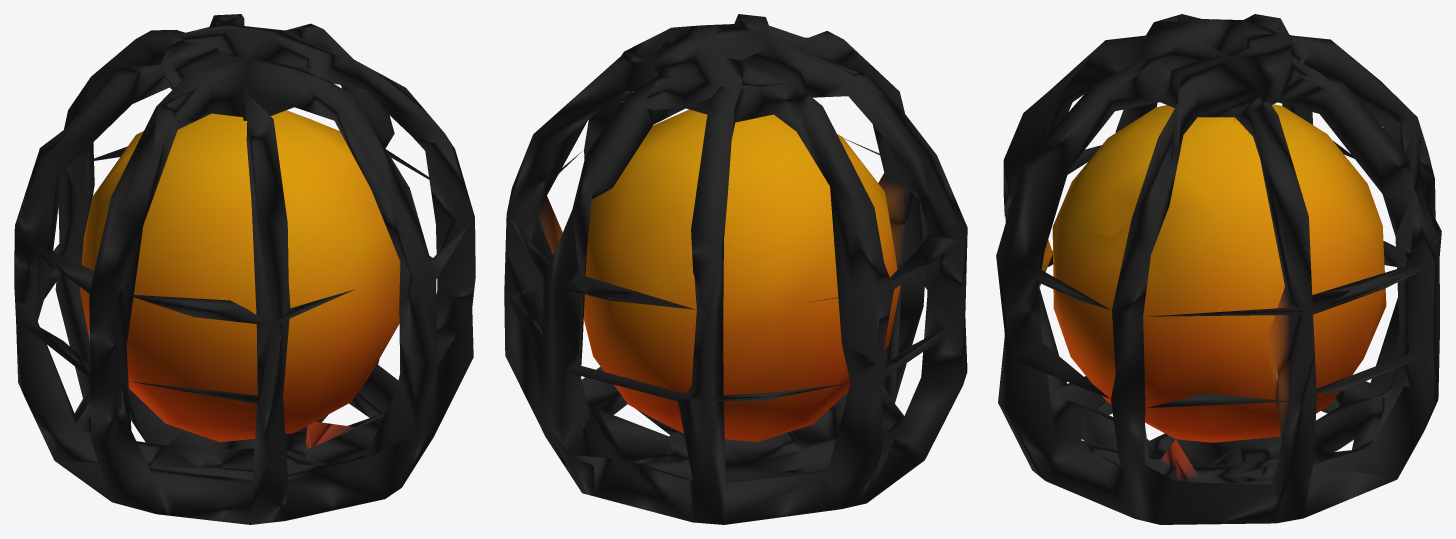
File: gen3d-power-core-lod1.glb
3 views of the same model, side by side, from view 1: azimuth 30°, elevation 25°; view 2: azimuth 150°, elevation 25°; view 3: azimuth 270°, elevation 25° (orthographic).
Visible parts, largest first — view 1: part_0; view 2: part_0; view 3: part_0.
Boxes of the visible parts, box(x1,y1,x2,y2) form: part_0: box(14, 14, 475, 524); part_0: box(504, 14, 967, 524); part_0: box(996, 14, 1441, 524).
Size of the model in its own units: 0.8941 by 0.9999 by 0.8968.
